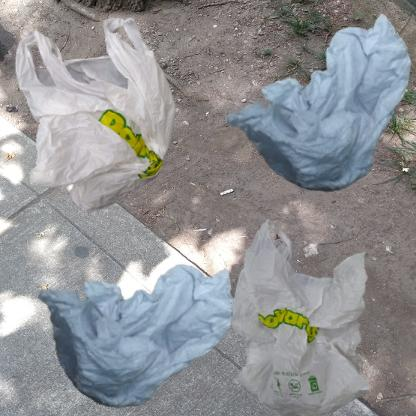bolsa: (213, 213, 407, 416), (10, 10, 192, 226)
papel: (10, 213, 265, 416), (213, 10, 416, 209)
